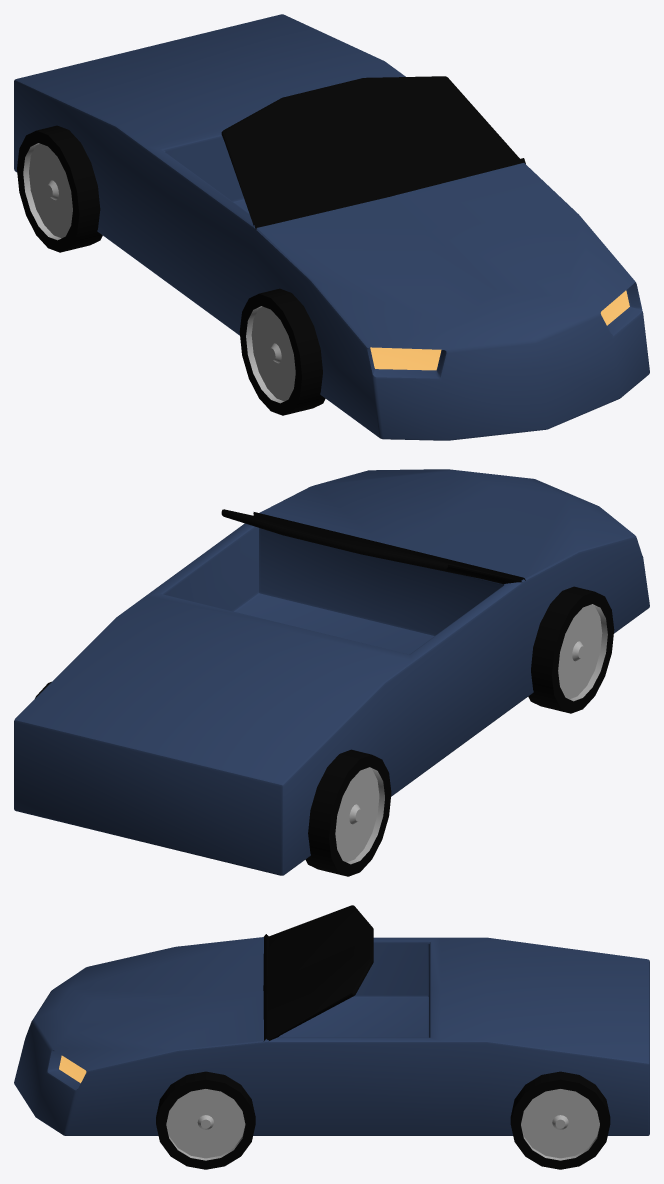
Rendered from sport.glb.
3 renders of one model, top to bottom at view 1: azimuth 30°, elevation 25°; view 2: azimuth 150°, elevation 25°; view 3: azimuth 270°, elevation 25°, orthographic. The views are drawn at different scales.
Parts seen in each view (by area): view 1: sport, sporttires-front, sporttires-back; view 2: sport, sporttires-back, sporttires-front; view 3: sport, sporttires-back, sporttires-front.
Boxes of the visible parts, left/top/right/bottom form: sport: left=14, top=14, right=649, bottom=440; sporttires-front: left=239, top=288, right=325, bottom=415; sporttires-back: left=17, top=125, right=102, bottom=252; sport: left=14, top=469, right=649, bottom=875; sporttires-back: left=35, top=681, right=391, bottom=876; sporttires-front: left=528, top=586, right=614, bottom=713; sport: left=14, top=905, right=649, bottom=1135; sporttires-back: left=510, top=1071, right=610, bottom=1169; sporttires-front: left=156, top=1071, right=255, bottom=1169.
Size of the model in its own units: 3.7 by 2.37 by 8.21.
